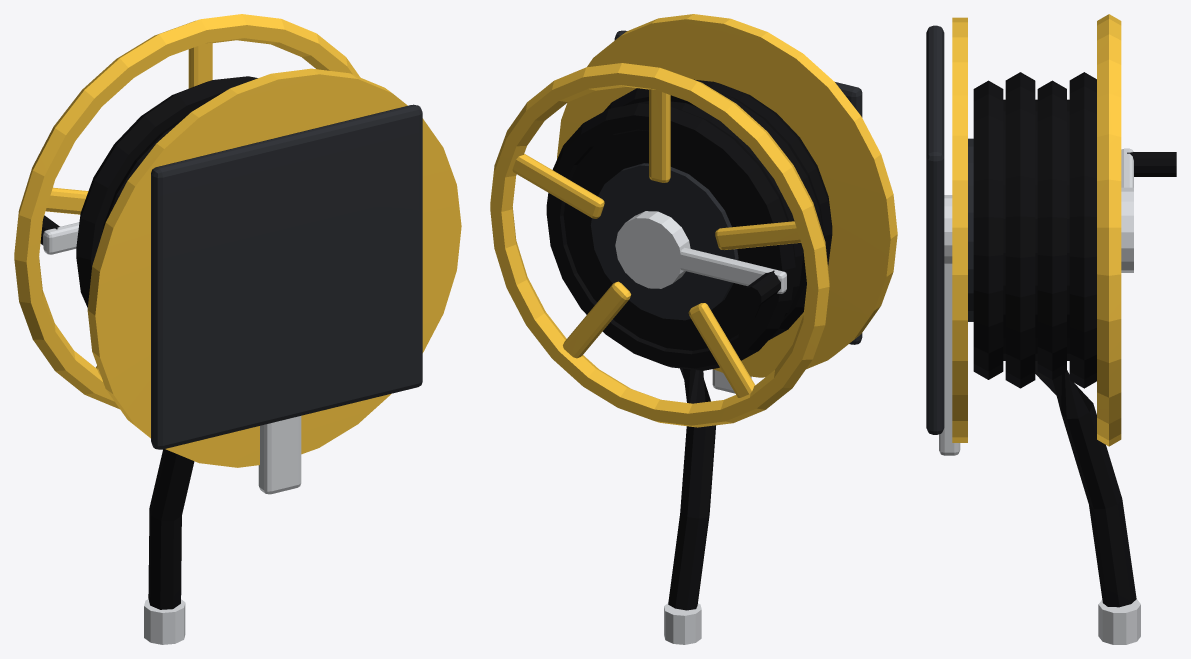
The model's file is SW_HoseReelDrum.glb.
3 views of the same model, side by side, from view 1: azimuth 30°, elevation 25°; view 2: azimuth 150°, elevation 25°; view 3: azimuth 270°, elevation 25° (orthographic). The views are drawn at different scales.
Visible parts, largest first — view 1: Bracket, Drum, HoseOut; view 2: Drum, HoseOut, Bracket; view 3: Drum, Bracket, HoseOut.
Boxes of the visible parts, x1,y1,x2,y2 form: Bracket: (151, 104, 422, 494); Drum: (14, 14, 461, 467); HoseOut: (144, 449, 194, 644); Drum: (490, 14, 897, 427); HoseOut: (664, 368, 715, 644); Bracket: (614, 30, 862, 393); Drum: (952, 14, 1176, 446); Bracket: (926, 25, 960, 455); HoseOut: (1035, 361, 1140, 644).
Size of the model in its own units: 0.61 by 0.96 by 0.3525.
Materials: 2 (1 with a texture image).
